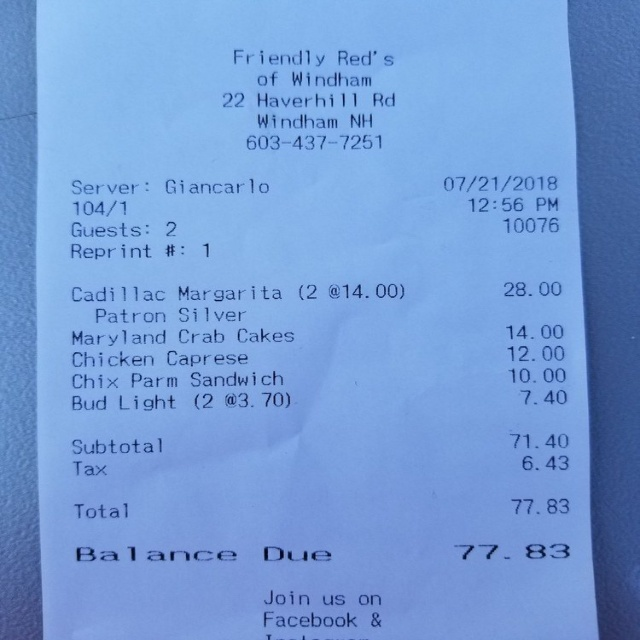invoice_table: (68, 280, 568, 414)
invoice_title: (220, 46, 399, 150)
invoice_total: (73, 496, 571, 520)
